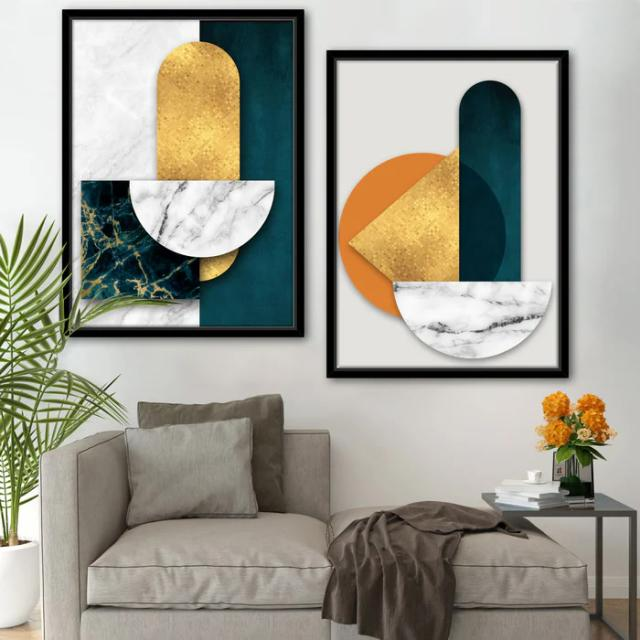painting: (326, 48, 569, 378), (62, 9, 304, 339)
